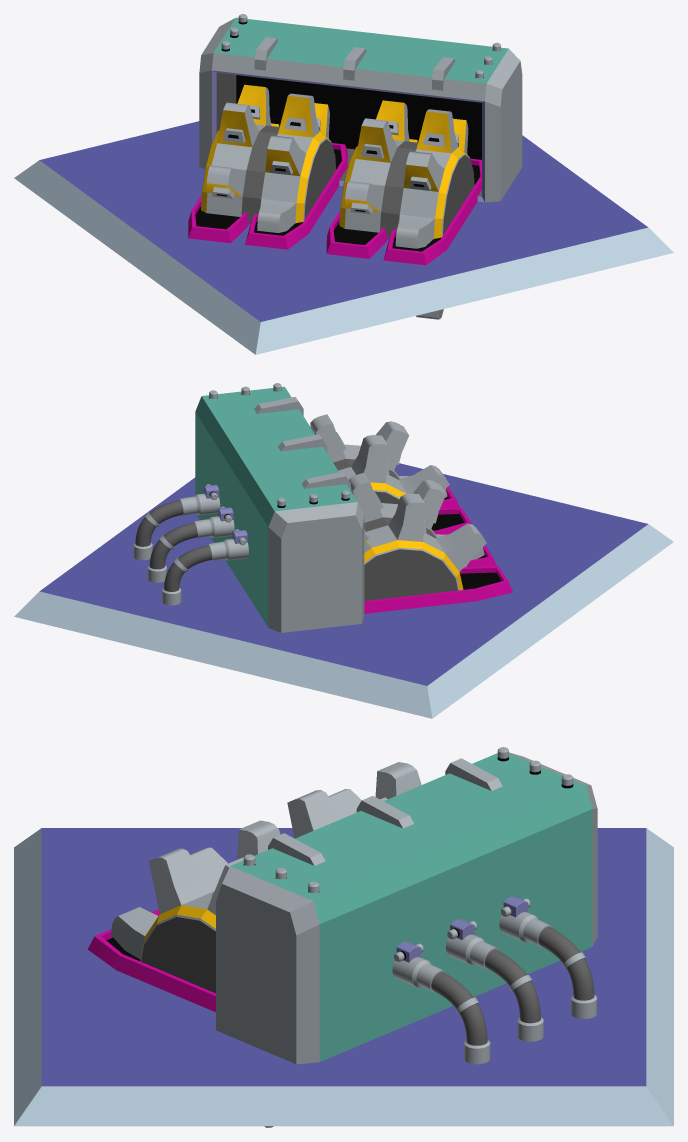
Rendered from 63_Haarvester_FUD8.fbx.
The picture shows the model from 3 angles, top to bottom: view 1: azimuth 30°, elevation 25°; view 2: azimuth 150°, elevation 25°; view 3: azimuth 270°, elevation 25°; orthographic projection. The views are drawn at different scales.
Parts seen in each view (by area): view 1: foundation8, pCylinder114 (×2), pCube137, pPlane38 (×2), pPlane39 (×2); view 2: foundation8, pCube137, pCylinder114 (×2), pPlane39 (×2), pCylinder122, pCylinder123, pCylinder124, pCube135, pCube134, pCube136; view 3: foundation8, pCube137, pCylinder114 (×2), pCylinder124, pCylinder123, pCylinder122, pPlane38, pCube135, pCube134, pCube136.
Boxes of the visible parts, x1,y1,x2,y2 form: foundation8: (14,121,673,354); pCylinder114 (×2): (201,84,474,319); pCube137: (199,17,522,202); pPlane38 (×2): (245,143,481,265); pPlane39 (×2): (188,195,387,258); foundation8: (14,463,673,718); pCube137: (195,386,364,632); pCylinder114 (×2): (310,414,486,600); pPlane39 (×2): (364,507,512,613); pCylinder122: (162,530,248,605); pCylinder123: (147,507,234,582); pCylinder124: (133,484,220,560); pCube135: (278,434,327,452); pCube134: (254,397,303,415); pCube136: (301,471,350,490); foundation8: (14,828,673,1126); pCube137: (216,752,597,1064); pCylinder114 (×2): (110,762,421,1127); pCylinder124: (392,941,490,1064); pCylinder123: (446,919,543,1041); pCylinder122: (499,896,596,1018); pPlane38: (87,929,215,1012); pCube135: (356,796,413,828); pCube134: (268,833,325,865); pCube136: (445,758,502,790).
Size of the model in its own units: 2 by 1.01 by 2.
